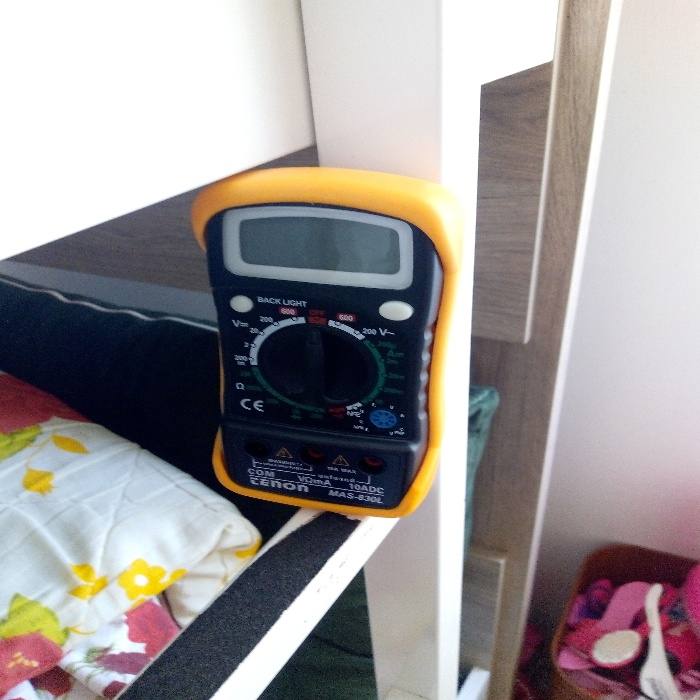multimetre: (178, 136, 473, 524)
